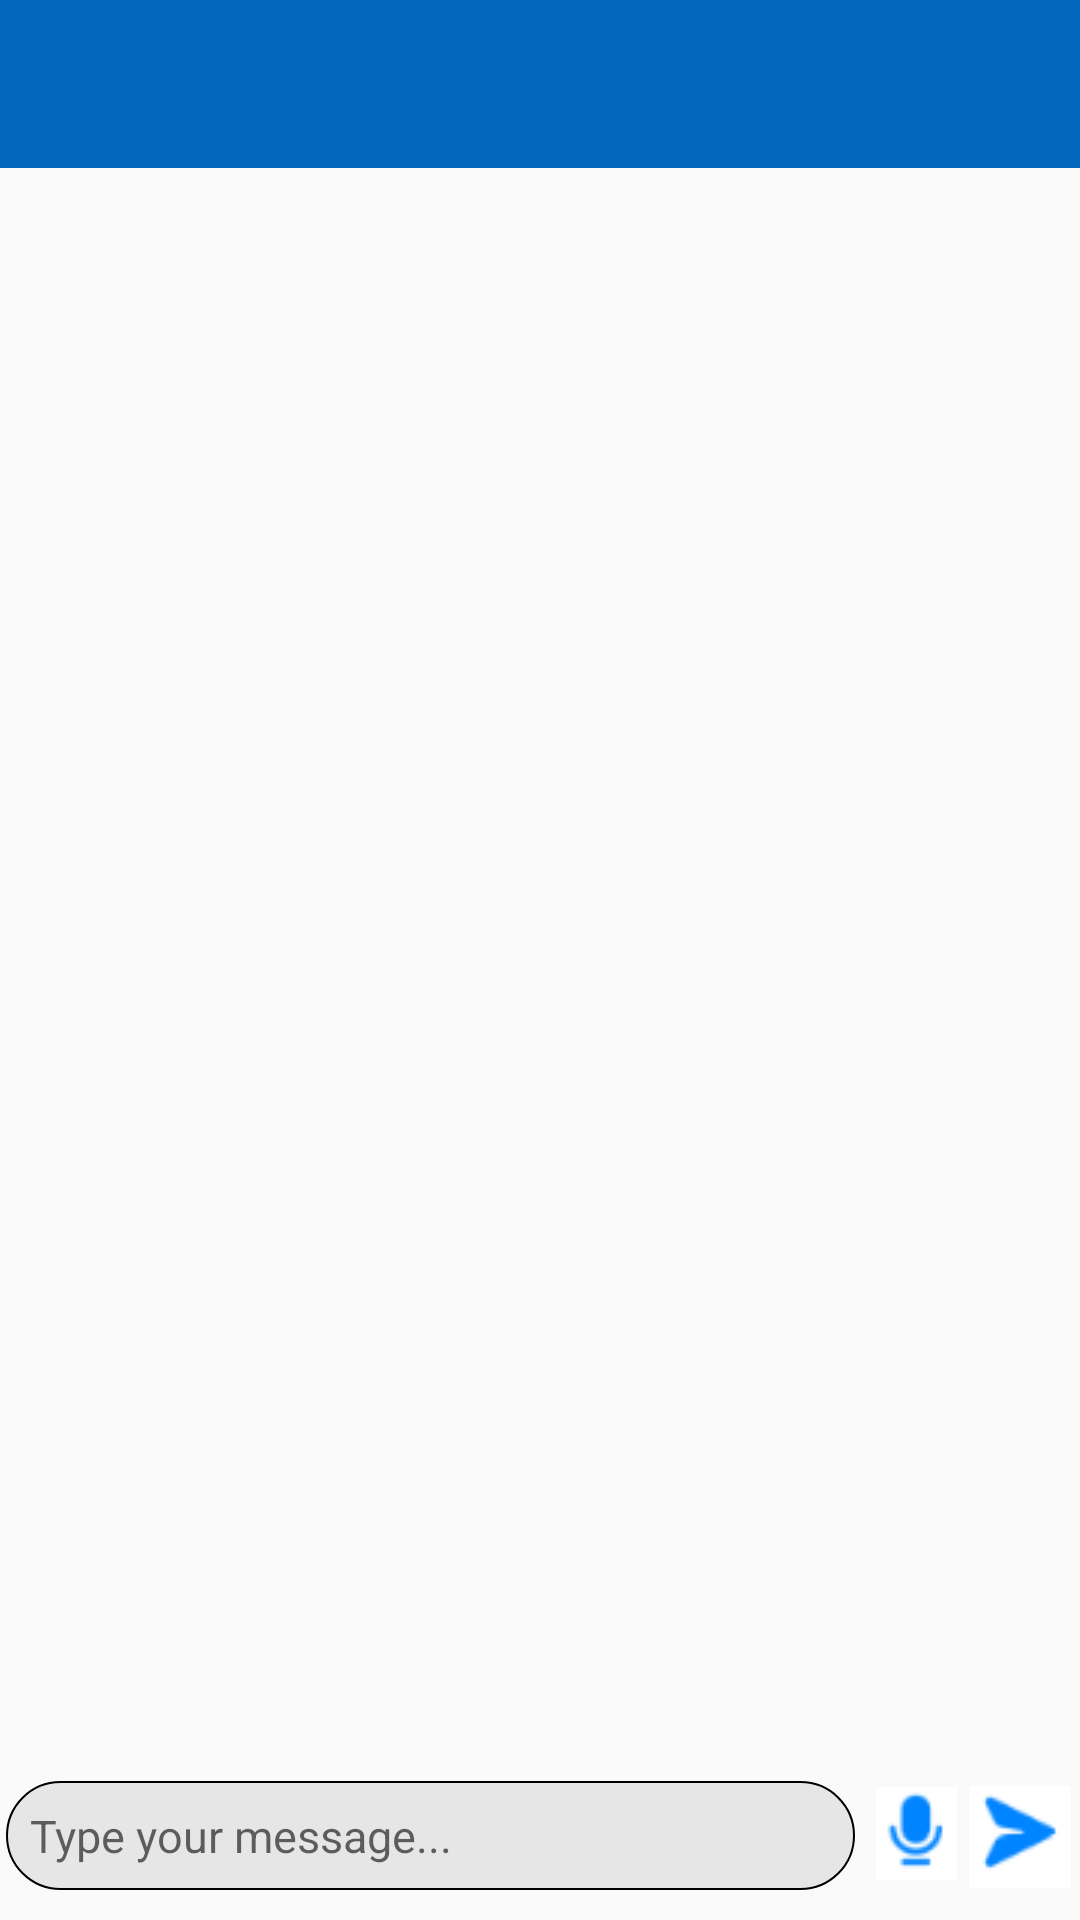

Where to tap for icons on this 1080*1920 app screen, as [x,y]:
record: [915,1830]
send: [1019,1831]
